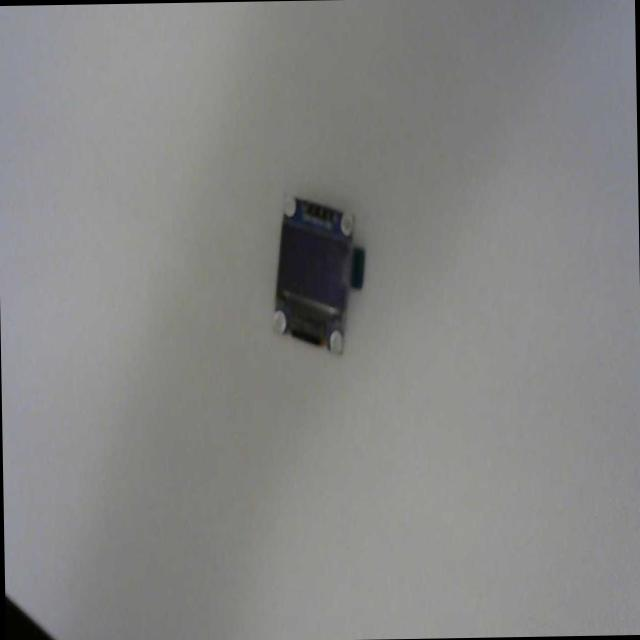oled: (266, 187, 367, 362)
